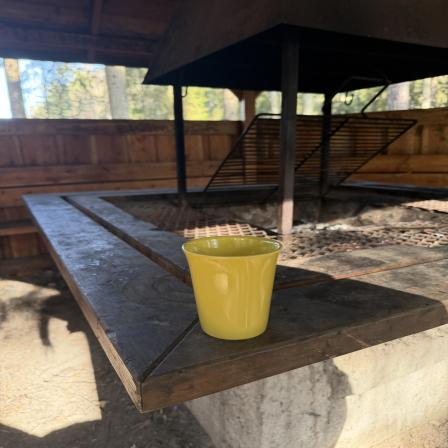yellow_cup: (182, 235, 283, 340)
